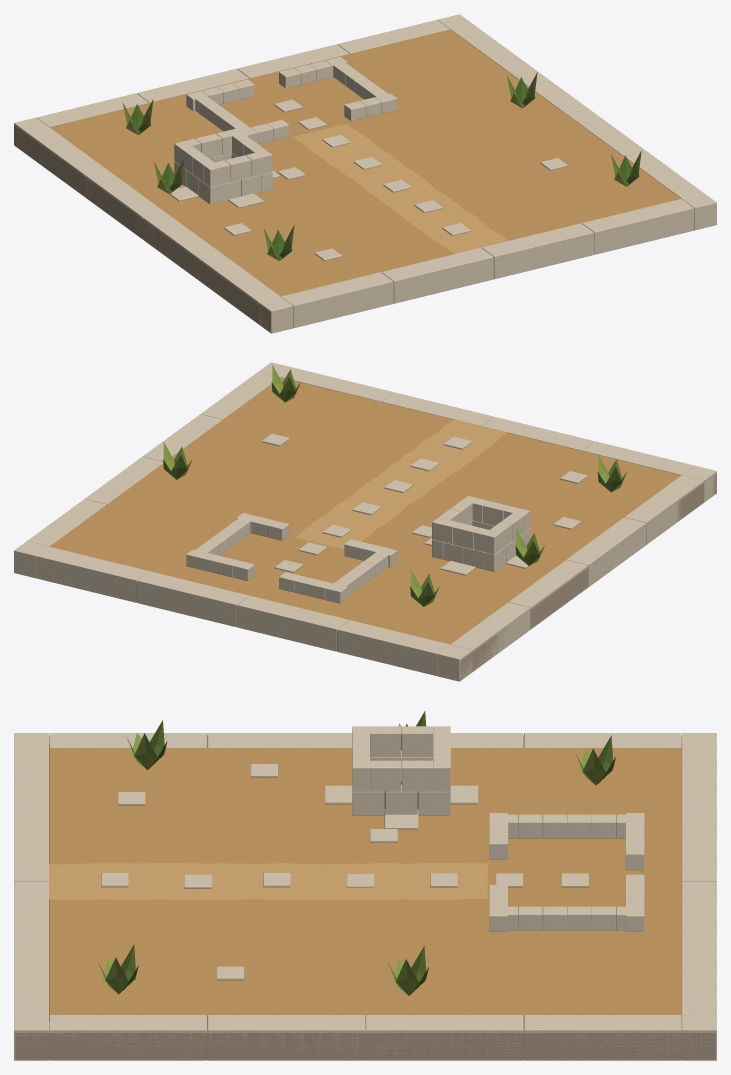
The model's file is city-1.glb.
3 renders of one model, top to bottom at view 1: azimuth 30°, elevation 25°; view 2: azimuth 150°, elevation 25°; view 3: azimuth 270°, elevation 25°, orthographic. The views are drawn at different scales.
Parts seen in each view (by area): view 1: SM_CT1_V4_Batch_1.002, SM_CT1_V4_Batch_10.002, SM_CT1_V4_Batch_2.002, SM_CT1_V4_Batch_6.002, SM_CT1_V4_Batch_11.002, SM_CT1_V4_Batch_0.002, SM_CT1_V4_Batch_3.002, SM_CT1_V4_Batch_8.002, SM_CT1_V4_Batch_7.002, SM_CT1_V4_Batch_9.002, SM_CT1_V4_Batch_5.002; view 2: SM_CT1_V4_Batch_1.002, SM_CT1_V4_Batch_10.002, SM_CT1_V4_Batch_2.002, SM_CT1_V4_Batch_6.002, SM_CT1_V4_Batch_11.002, SM_CT1_V4_Batch_0.002, SM_CT1_V4_Batch_3.002, SM_CT1_V4_Batch_7.002, SM_CT1_V4_Batch_8.002, SM_CT1_V4_Batch_5.002; view 3: SM_CT1_V4_Batch_1.002, SM_CT1_V4_Batch_10.002, SM_CT1_V4_Batch_0.002, SM_CT1_V4_Batch_2.002, SM_CT1_V4_Batch_6.002, SM_CT1_V4_Batch_11.002, SM_CT1_V4_Batch_3.002, SM_CT1_V4_Batch_8.002, SM_CT1_V4_Batch_5.002, SM_CT1_V4_Batch_7.002.
Part boxes in pixels (<box>): SM_CT1_V4_Batch_1.002: <box>50,29,681,296</box>; SM_CT1_V4_Batch_10.002: <box>14,14,716,333</box>; SM_CT1_V4_Batch_2.002: <box>293,124,506,253</box>; SM_CT1_V4_Batch_6.002: <box>186,57,397,143</box>; SM_CT1_V4_Batch_11.002: <box>174,128,272,204</box>; SM_CT1_V4_Batch_0.002: <box>14,126,694,330</box>; SM_CT1_V4_Batch_3.002: <box>224,99,567,261</box>; SM_CT1_V4_Batch_8.002: <box>126,72,641,260</box>; SM_CT1_V4_Batch_7.002: <box>122,75,639,260</box>; SM_CT1_V4_Batch_9.002: <box>131,77,631,254</box>; SM_CT1_V4_Batch_5.002: <box>169,170,279,208</box>; SM_CT1_V4_Batch_1.002: <box>49,377,680,644</box>; SM_CT1_V4_Batch_10.002: <box>14,362,716,681</box>; SM_CT1_V4_Batch_2.002: <box>295,420,507,549</box>; SM_CT1_V4_Batch_6.002: <box>186,513,397,603</box>; SM_CT1_V4_Batch_11.002: <box>432,496,530,571</box>; SM_CT1_V4_Batch_0.002: <box>36,474,716,679</box>; SM_CT1_V4_Batch_3.002: <box>262,433,587,572</box>; SM_CT1_V4_Batch_7.002: <box>171,369,621,606</box>; SM_CT1_V4_Batch_8.002: <box>163,365,626,606</box>; SM_CT1_V4_Batch_5.002: <box>424,538,528,575</box>; SM_CT1_V4_Batch_1.002: <box>49,744,681,1021</box>; SM_CT1_V4_Batch_10.002: <box>14,733,716,1060</box>; SM_CT1_V4_Batch_0.002: <box>15,735,715,1060</box>; SM_CT1_V4_Batch_2.002: <box>49,863,487,900</box>; SM_CT1_V4_Batch_6.002: <box>489,813,644,931</box>; SM_CT1_V4_Batch_11.002: <box>352,726,450,815</box>; SM_CT1_V4_Batch_3.002: <box>101,764,588,980</box>; SM_CT1_V4_Batch_8.002: <box>102,723,605,995</box>; SM_CT1_V4_Batch_5.002: <box>325,785,478,829</box>; SM_CT1_V4_Batch_7.002: <box>98,711,613,994</box>.
Size of the model in its own units: 10 by 1.24 by 10.
Materials: 8 (3 with a texture image).
